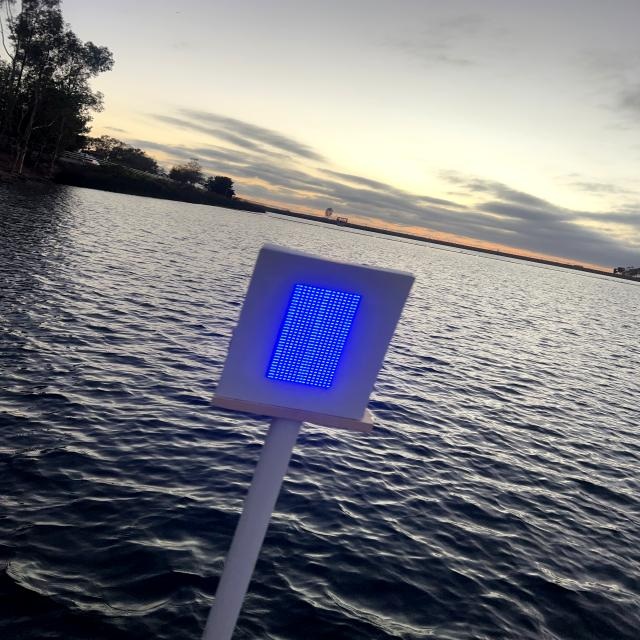led: (261, 262, 366, 413)
